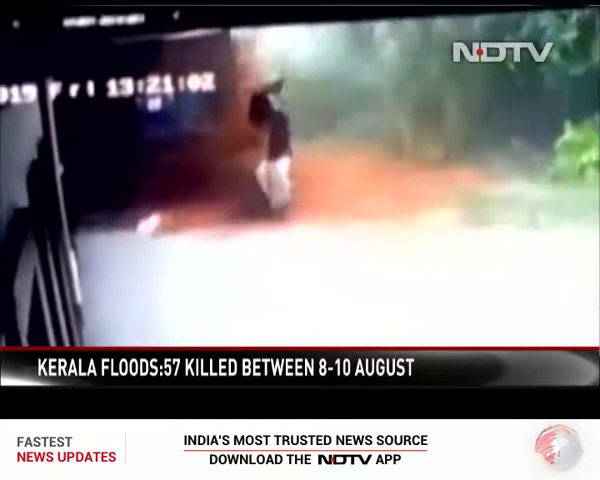person: (245, 85, 288, 216)
